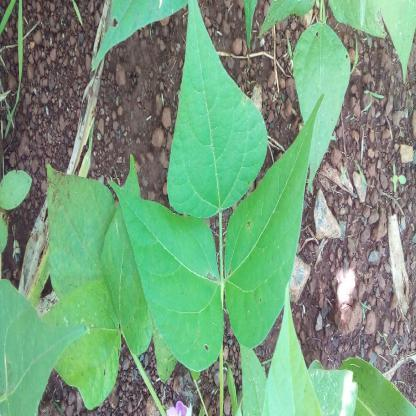Beans_Angular_LeafSpot: (224, 95, 324, 343), (122, 174, 224, 372), (45, 164, 120, 325), (90, 0, 192, 65)
